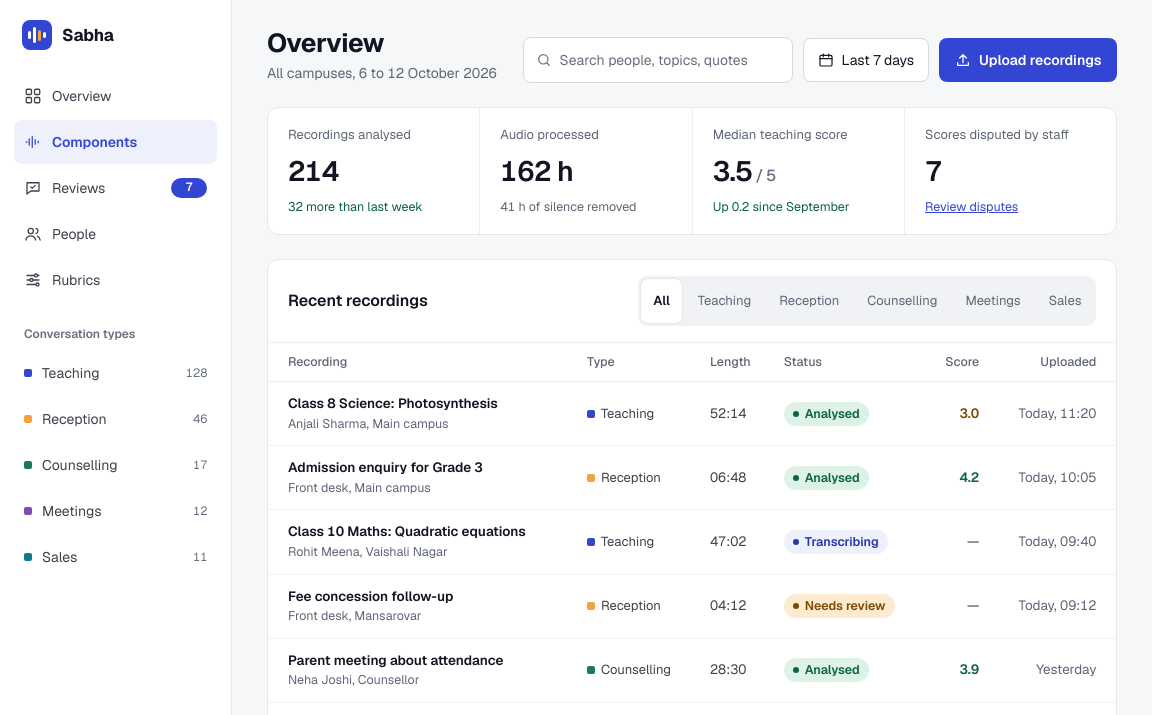
it: ComponentsDemo › filters the table and raises an error toast with a request id
Step 1. Click the button "Sales" → [1065, 301], box [1037,279,1093,323]
(page scrolled)
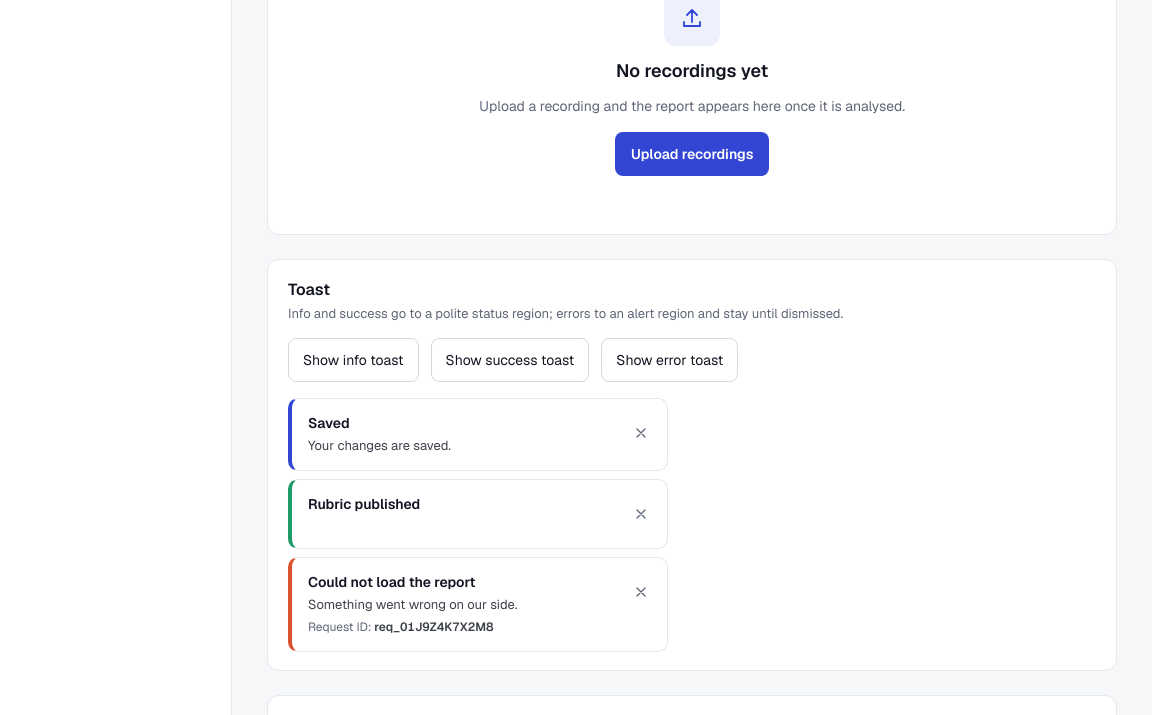
Step 2. Click the button "Show error toast" → [670, 360], box [601,338,738,382]
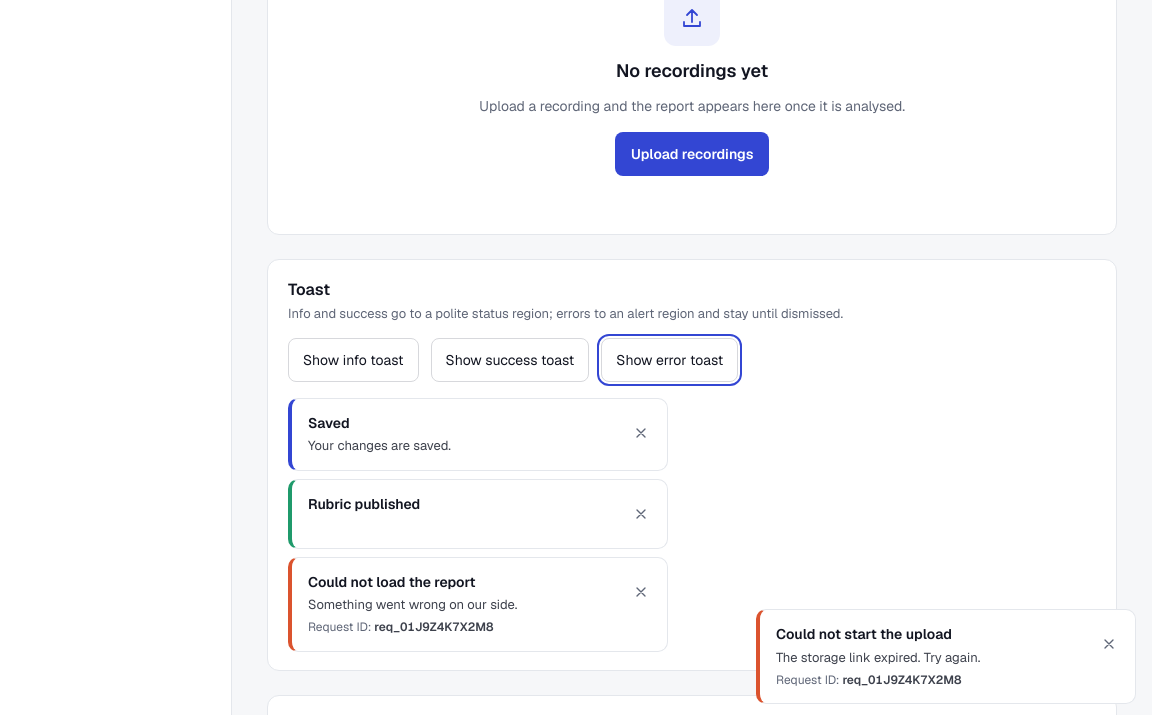
Now the text "req_01J9Z4K7X2M8" below "The storage link expired. Try again." is shown, box [842,672,962,688]
